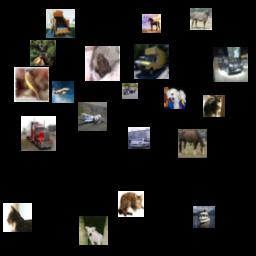airplane: (78, 102, 107, 131), (52, 81, 74, 103)
automobile: (213, 47, 248, 82), (128, 127, 150, 149)
bird: (14, 67, 49, 102)
cat: (3, 203, 32, 232), (118, 191, 144, 217), (203, 95, 225, 117)
deer: (30, 40, 56, 66)
dog: (79, 216, 108, 245), (164, 87, 186, 109)
frog: (85, 46, 120, 81)
ship: (193, 206, 215, 228)
truck: (21, 116, 56, 151), (134, 44, 169, 79), (46, 9, 75, 38), (122, 83, 138, 99)
